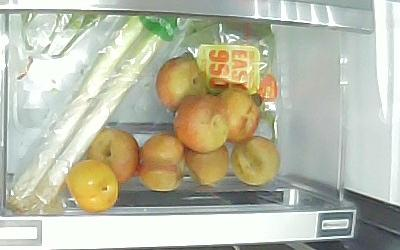prune: (172, 93, 230, 152), (87, 128, 141, 183), (138, 133, 185, 192), (68, 161, 120, 214), (156, 57, 204, 111), (217, 88, 260, 143), (232, 135, 279, 185)
tangerine: (184, 145, 230, 187)
